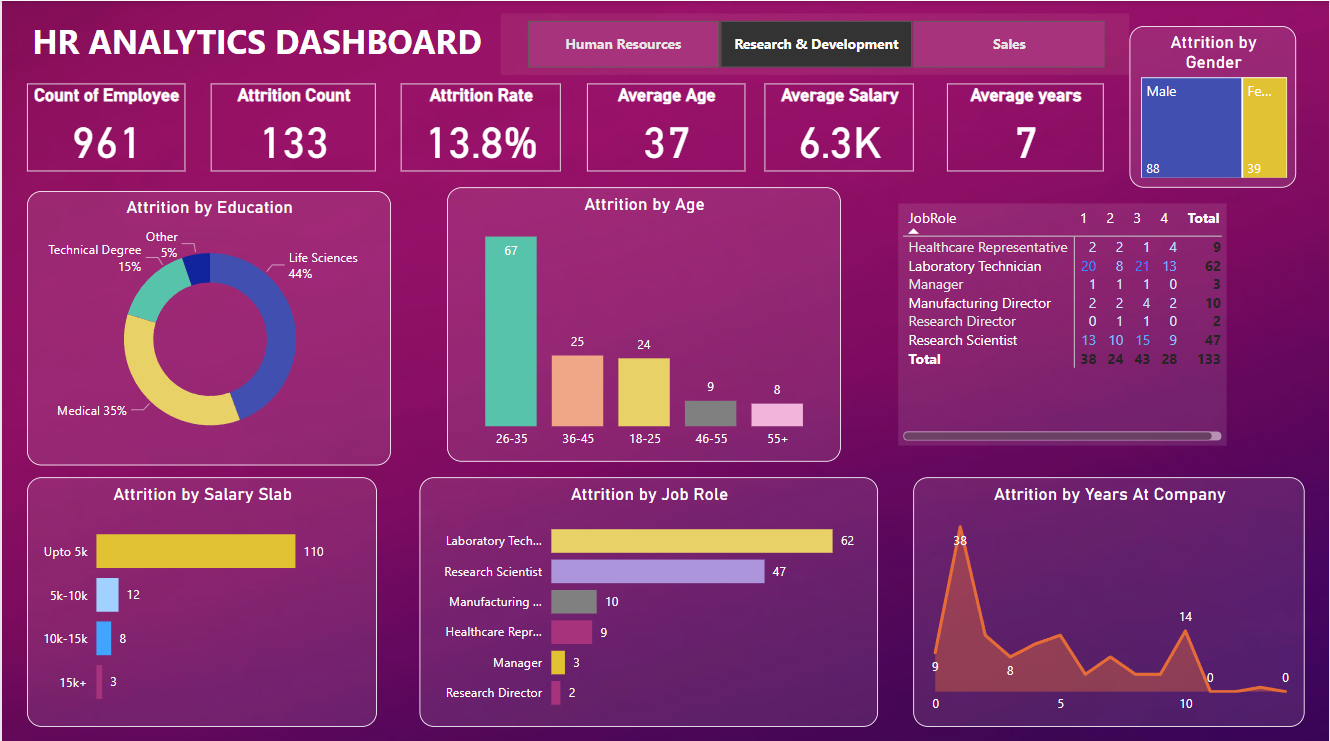

What the dashboard file says about the page in this screenshot:
{"tool":"powerbi","page":{"name":"Page 1","canvas":[1280,720],"ordinal":0},"visuals":[{"type":"card","title":"Count of Employee","fields":{"Values":["CountNonNull(HR_Analytics.EmpID)"]},"box":[23.7,79.7,152.5,84.7],"z":0},{"type":"card","title":"Attrition Count ","fields":{"Values":["Sum(HR_Analytics.AttritionCount)"]},"box":[201.7,79.7,159.3,84.7],"z":1000},{"type":"card","title":"Average Age","fields":{"Values":["Avg(HR_Analytics.Age)"]},"box":[564.4,79.7,152.5,84.7],"z":2000},{"type":"card","title":"Attrition Rate","fields":{"Values":["HR_Analytics.AttritionRate"]},"box":[384.7,79.7,154.2,84.7],"z":3000},{"type":"card","title":"Average years","fields":{"Values":["Avg(HR_Analytics.YearsAtCompany)"]},"box":[911.9,79.7,150.8,84.7],"z":4000},{"type":"card","title":"Average Salary","fields":{"Values":["Avg(HR_Analytics.MonthlyIncome)"]},"box":[735.6,79.7,144.1,84.7],"z":5000},{"type":"donutChart","title":"Attrition by Education","fields":{"Category":["HR_Analytics.EducationField"],"Y":["Sum(HR_Analytics.AttritionCount)"]},"box":[23.7,183.1,350.8,264.4],"z":6000},{"type":"columnChart","title":"Attrition by Age","fields":{"Category":["HR_Analytics.AgeGroup"],"Y":["Sum(HR_Analytics.AttritionCount)"]},"box":[428.8,179.7,379.7,264.4],"z":7000},{"type":"barChart","title":"Attrition by Salary Slab","fields":{"Category":["HR_Analytics.SalarySlab"],"Y":["Sum(HR_Analytics.AttritionCount)"]},"box":[23.7,459.3,337.3,240.7],"z":8000},{"type":"barChart","title":"Attrition by Job Role","fields":{"Category":["HR_Analytics.JobRole"],"Y":["Sum(HR_Analytics.AttritionCount)"]},"box":[403.4,459.3,442.4,240.7],"z":9000},{"type":"areaChart","title":"Attrition by Years At Company","fields":{"Category":["HR_Analytics.YearsAtCompany"],"Y":["Sum(HR_Analytics.AttritionCount)"]},"box":[879.7,459.3,378,240.7],"z":10000},{"type":"treemap","title":"Attrition by Gender","fields":{"Group":["HR_Analytics.Gender"],"Values":["Sum(HR_Analytics.AttritionCount)"]},"box":[1088.1,23.7,161,155.9],"z":11000},{"type":"slicer","fields":{"Values":["HR_Analytics.Department"]},"box":[481.4,11.9,606.8,59.3],"z":12000},{"type":"textbox","box":[23.7,11.9,515.3,67.8],"z":13000},{"type":"pivotTable","fields":{"Rows":["HR_Analytics.JobRole"],"Columns":["HR_Analytics.JobSatisfaction"],"Values":["Sum(HR_Analytics.AttritionCount)"]},"box":[864.4,194.9,316.9,233.9],"z":14000}]}

Visuals, with their boxes in screenshot pixels (x1, y1, x2, y2), scaled from the page's 1280x720 canvas onto the 1330x741 screenshot:
"Count of Employee" card: {"x1": 25, "y1": 82, "x2": 183, "y2": 169}
"Attrition Count " card: {"x1": 210, "y1": 82, "x2": 375, "y2": 169}
"Average Age" card: {"x1": 586, "y1": 82, "x2": 745, "y2": 169}
"Attrition Rate" card: {"x1": 400, "y1": 82, "x2": 560, "y2": 169}
"Average years" card: {"x1": 948, "y1": 82, "x2": 1104, "y2": 169}
"Average Salary" card: {"x1": 764, "y1": 82, "x2": 914, "y2": 169}
"Attrition by Education" donutChart: {"x1": 25, "y1": 188, "x2": 389, "y2": 461}
"Attrition by Age" columnChart: {"x1": 446, "y1": 185, "x2": 840, "y2": 457}
"Attrition by Salary Slab" barChart: {"x1": 25, "y1": 473, "x2": 375, "y2": 720}
"Attrition by Job Role" barChart: {"x1": 419, "y1": 473, "x2": 879, "y2": 720}
"Attrition by Years At Company" areaChart: {"x1": 914, "y1": 473, "x2": 1307, "y2": 720}
"Attrition by Gender" treemap: {"x1": 1131, "y1": 24, "x2": 1298, "y2": 185}
slicer - HR_Analytics.Department: {"x1": 500, "y1": 12, "x2": 1131, "y2": 73}
textbox: {"x1": 25, "y1": 12, "x2": 560, "y2": 82}
pivotTable - HR_Analytics.JobRole x HR_Analytics.JobSatisfaction: {"x1": 898, "y1": 201, "x2": 1227, "y2": 441}
